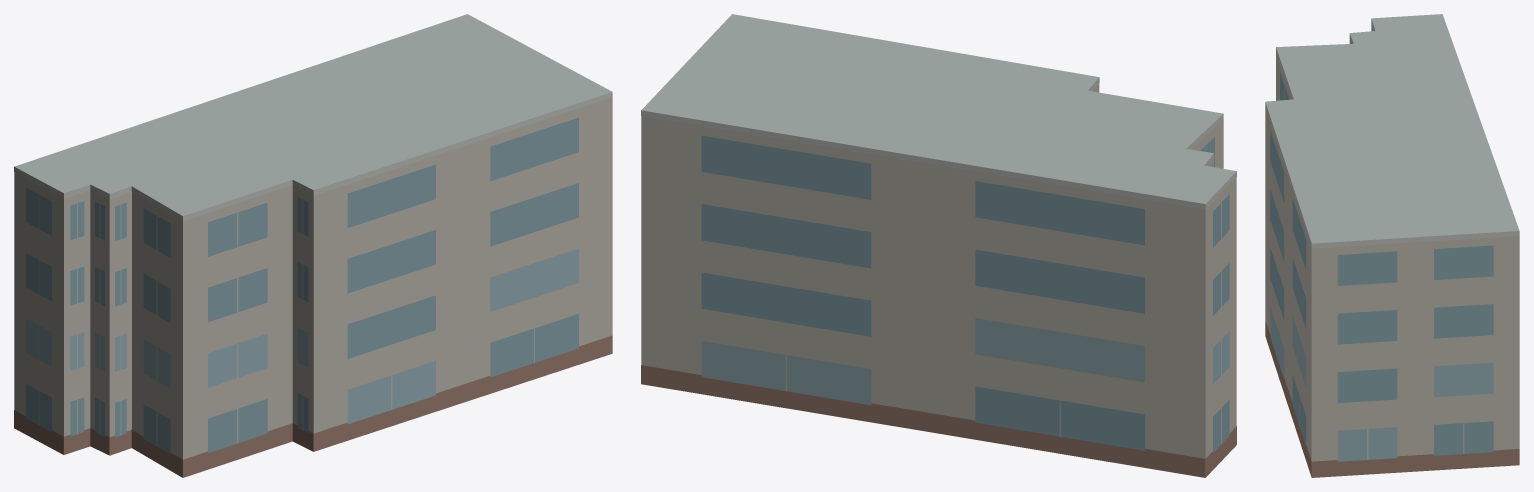
Rendered from survey-upis-32533001.glb.
3 renders of one model, left to right at view 1: azimuth 30°, elevation 25°; view 2: azimuth 150°, elevation 25°; view 3: azimuth 270°, elevation 25°, orthographic. The views are drawn at different scales.
Parts seen in each view (by area): view 1: survey-upis-32533001.tmp; view 2: survey-upis-32533001.tmp; view 3: survey-upis-32533001.tmp.
Boxes of the visible parts, x1,y1,x2,y2 form: survey-upis-32533001.tmp: (14,14,612,477); survey-upis-32533001.tmp: (641,14,1236,477); survey-upis-32533001.tmp: (1265,14,1519,477).
Bounding box in the file's own units: 24.59 × 11.7 × 11.52.
